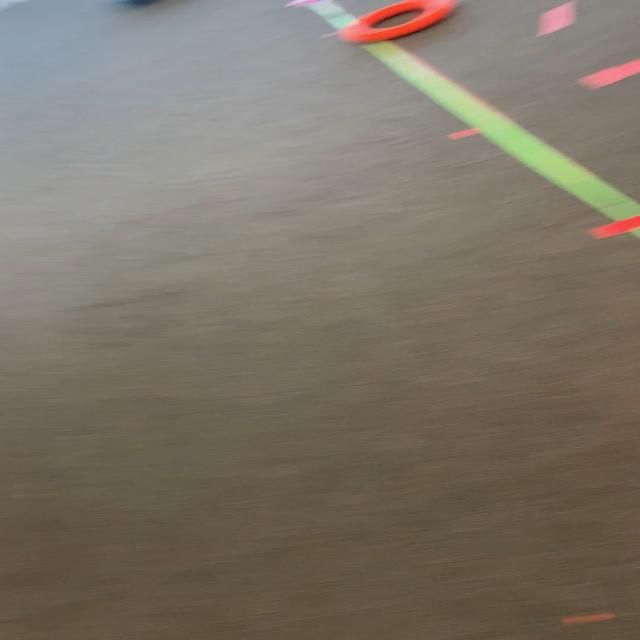notes: (343, 0, 454, 43)
